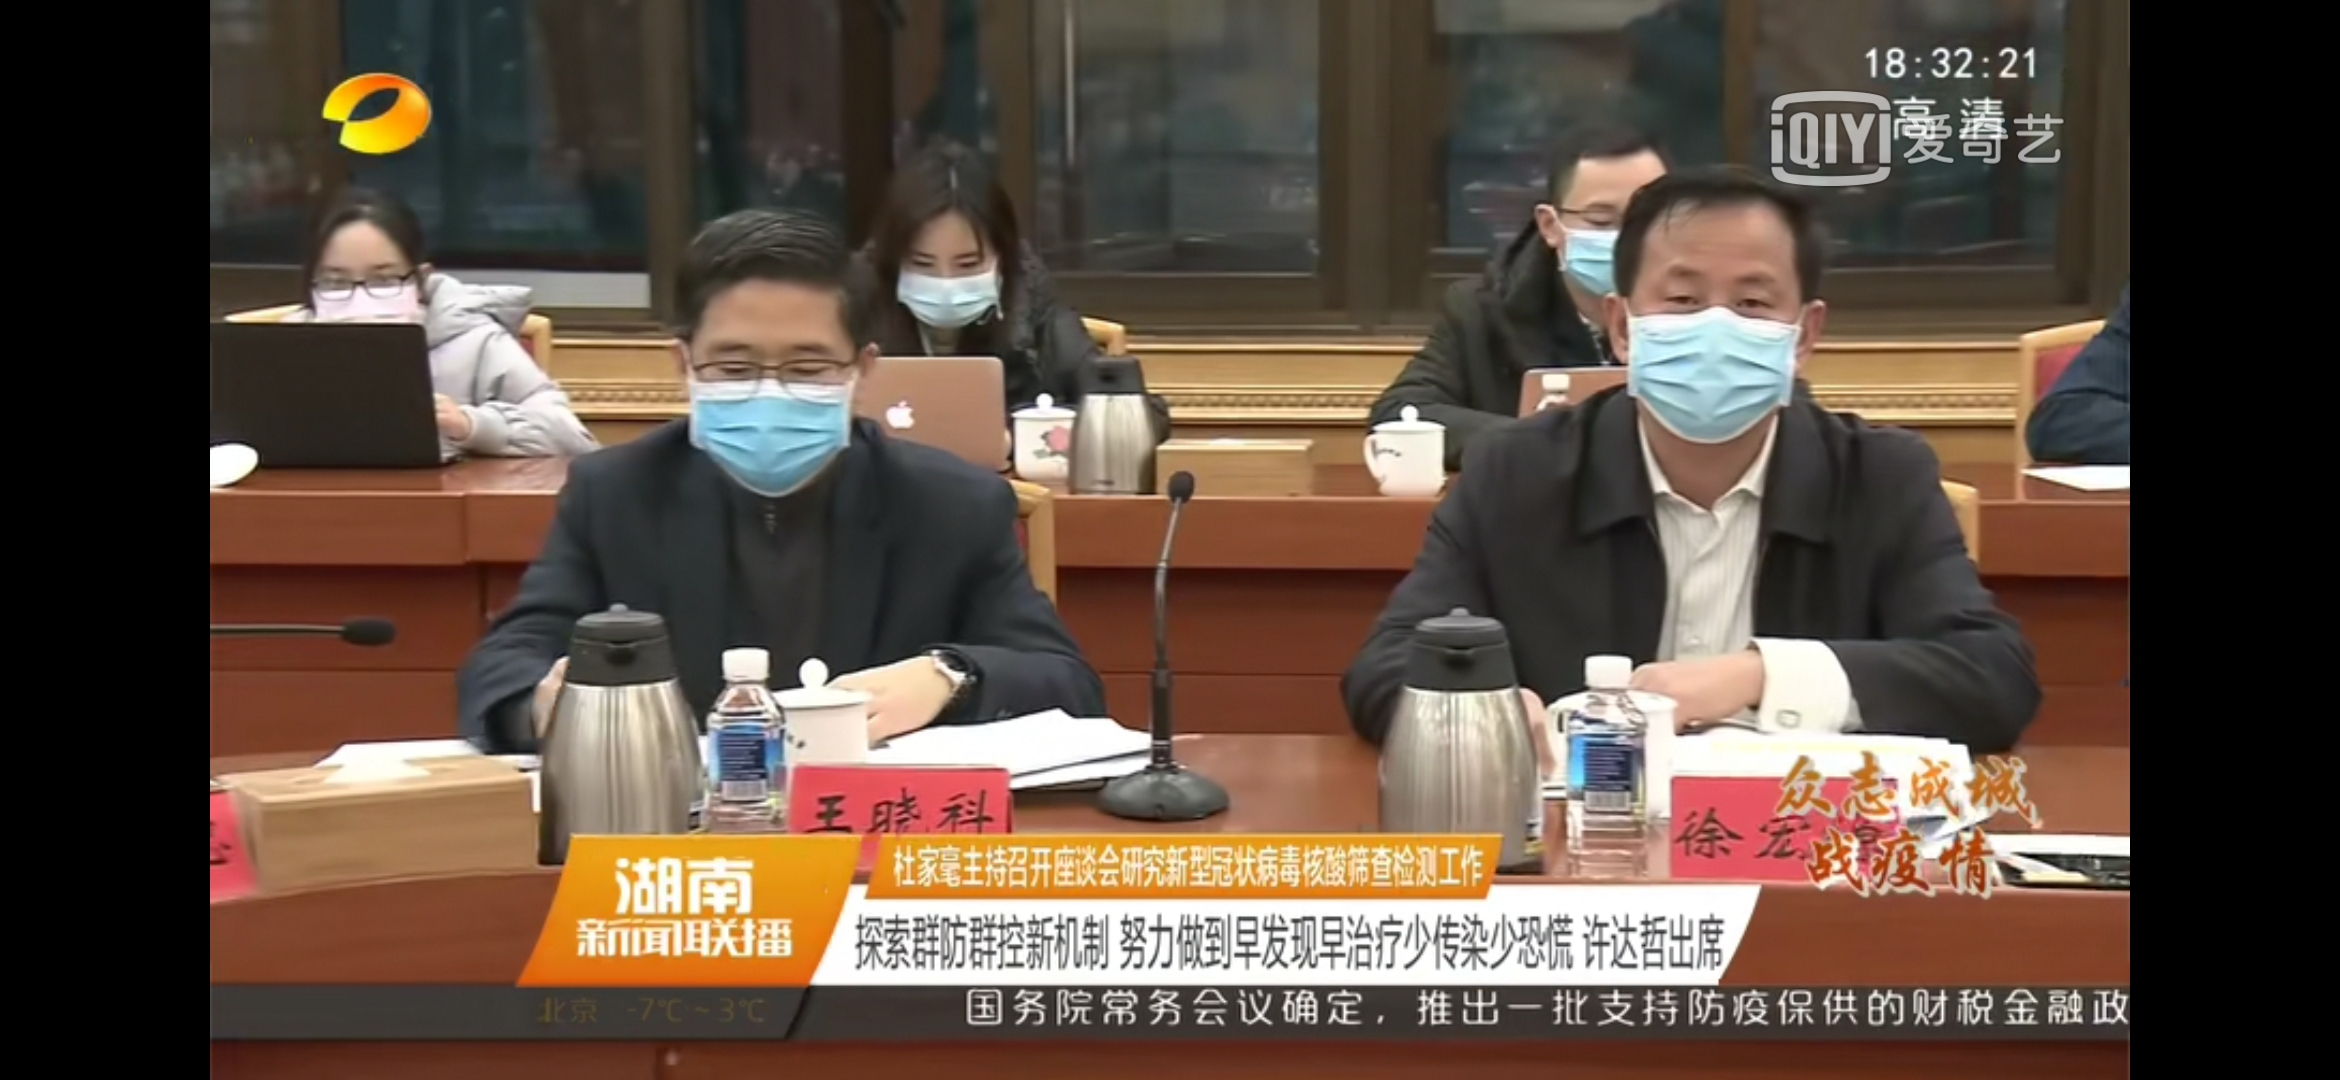correctlyWear: (667, 295, 892, 500), (1604, 245, 1825, 450), (888, 210, 1004, 334), (304, 228, 425, 327), (1537, 158, 1619, 292)
